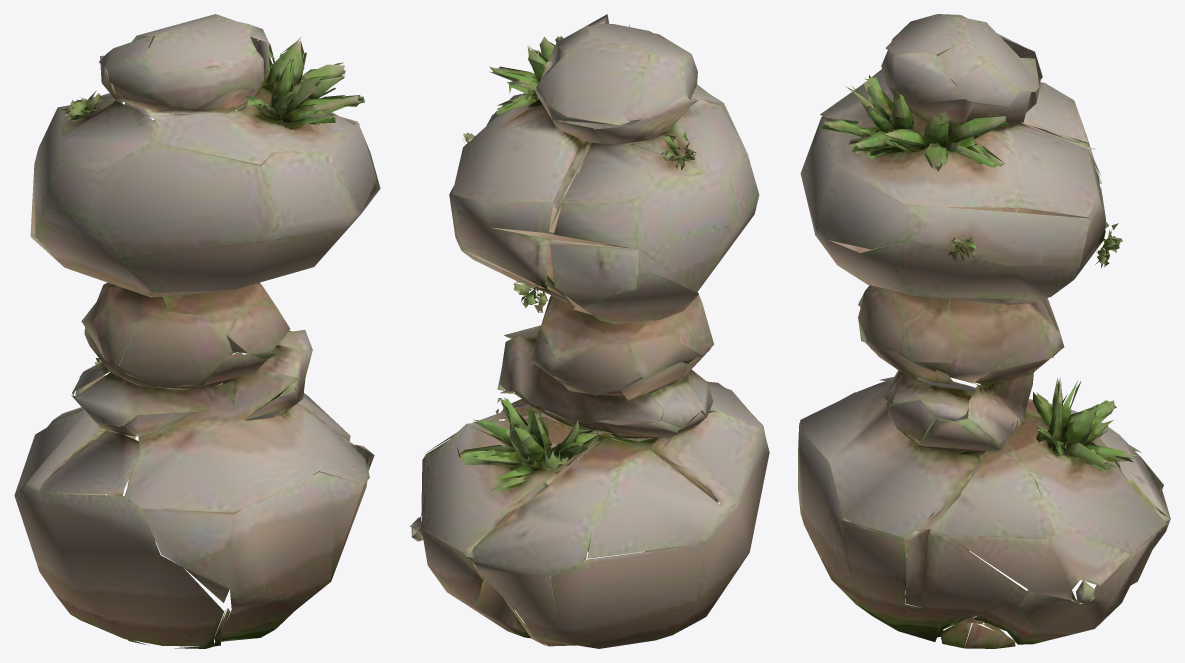
Rendered from stat_balance.glb.
3 renders of one model, left to right at view 1: azimuth 30°, elevation 25°; view 2: azimuth 150°, elevation 25°; view 3: azimuth 270°, elevation 25°, orthographic. The views are drawn at different scales.
Visible parts, largest first — view 1: tripo_node_a30ce6db-eadf-40a1-9df7-ca9d6afb6d21; view 2: tripo_node_a30ce6db-eadf-40a1-9df7-ca9d6afb6d21; view 3: tripo_node_a30ce6db-eadf-40a1-9df7-ca9d6afb6d21.
Part boxes in pixels (bbox=[...]): tripo_node_a30ce6db-eadf-40a1-9df7-ca9d6afb6d21: bbox=[14, 14, 380, 648]; tripo_node_a30ce6db-eadf-40a1-9df7-ca9d6afb6d21: bbox=[410, 14, 769, 648]; tripo_node_a30ce6db-eadf-40a1-9df7-ca9d6afb6d21: bbox=[798, 14, 1170, 648].
Size of the model in its own units: 0.5514 by 1 by 0.5957.
1 material, 1 textured.
